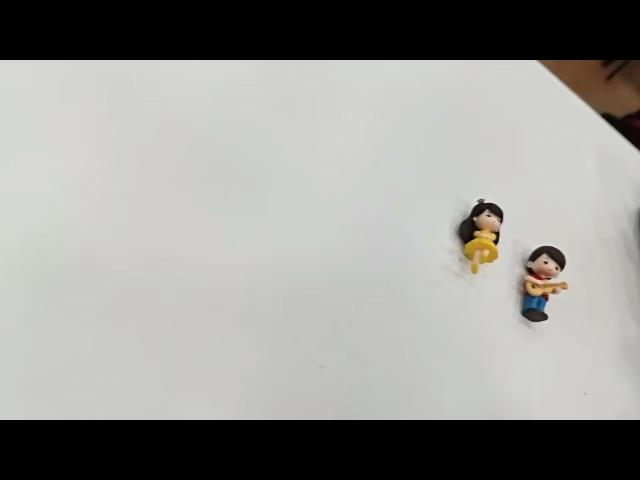man: (518, 243, 570, 325)
woman: (454, 194, 506, 278)
